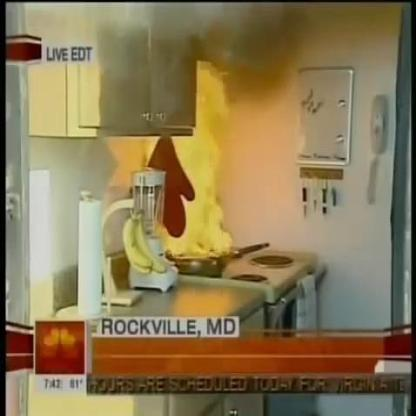fire: (137, 61, 236, 262)
